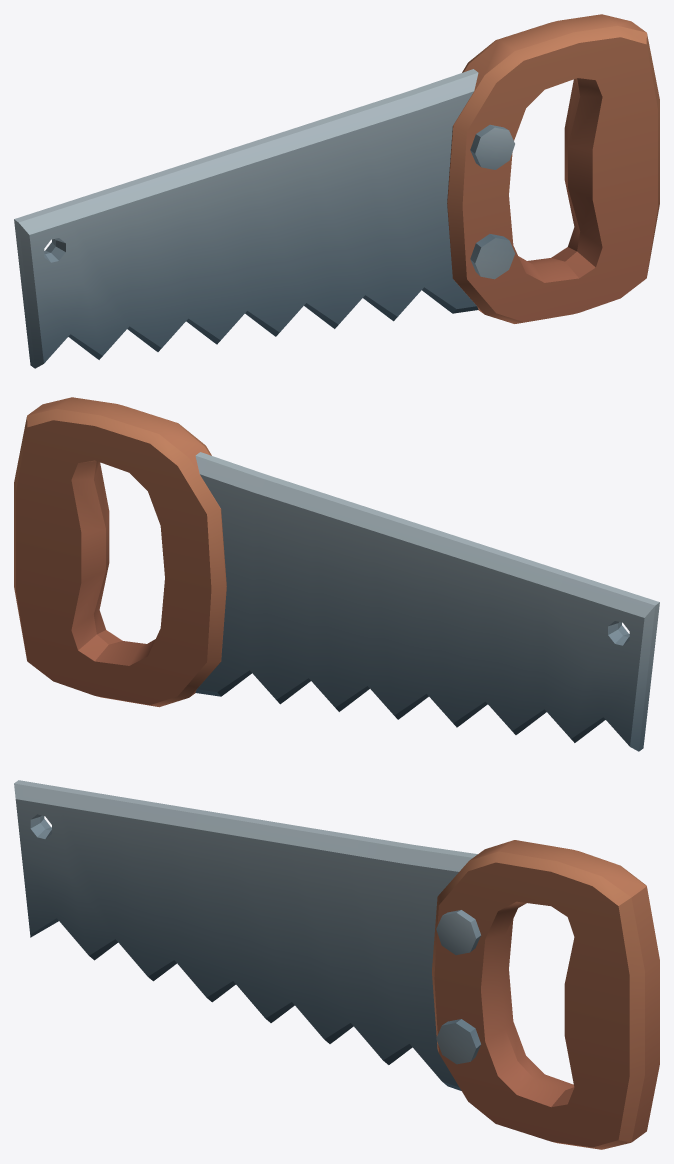
Rendered from saw.glb.
3 renders of one model, top to bottom at view 1: azimuth 30°, elevation 25°; view 2: azimuth 150°, elevation 25°; view 3: azimuth 330°, elevation 25°, orthographic.
Visible parts, largest first — view 1: saw; view 2: saw; view 3: saw.
Boxes of the visible parts, x1,y1,x2,y2 form: saw: [14, 14, 659, 368]; saw: [14, 397, 659, 751]; saw: [14, 780, 659, 1149].
Size of the model in its own units: 0.809 by 0.3426 by 0.0774.
1 material, 1 textured.
